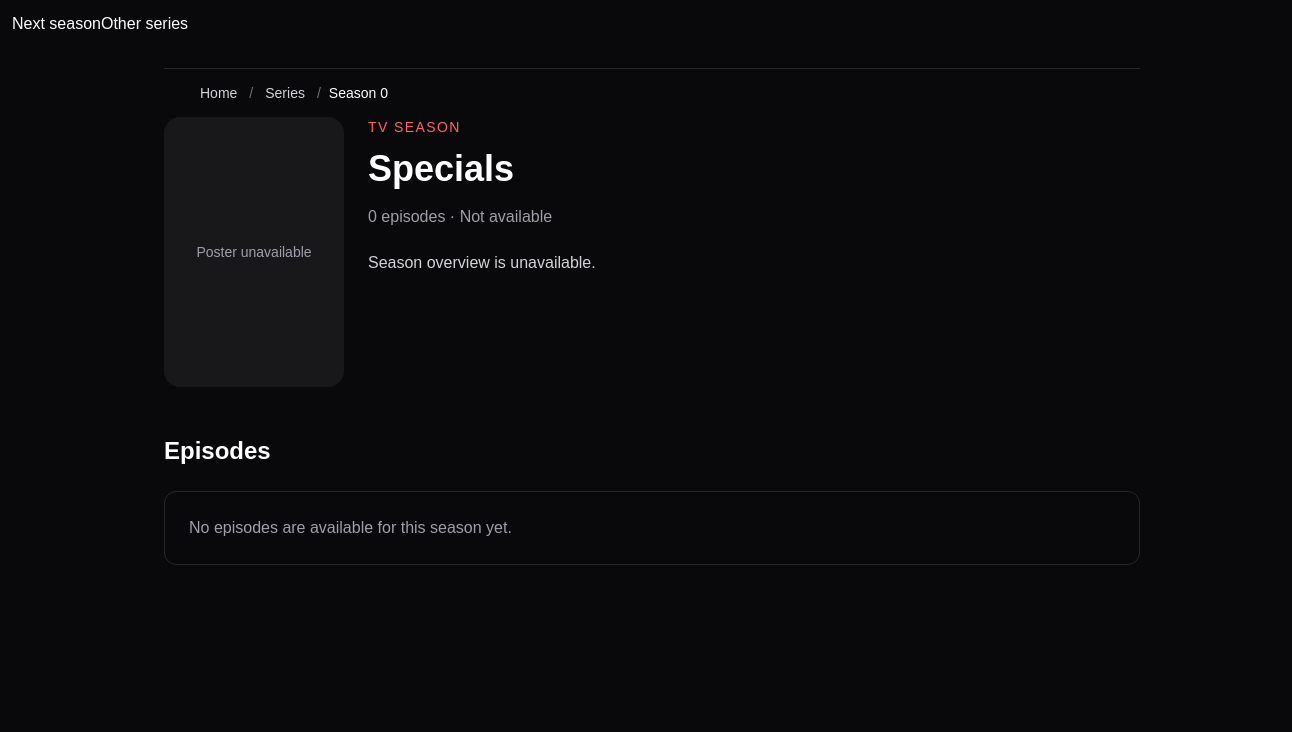
Test: TvSeasonPage › supports an empty Specials season and returns to the series
Expected: the heading "Specials" is shown, left=368, top=148, right=514, bottom=189
Expected: the text "No episodes are available for this season yet." is shown, left=164, top=491, right=1140, bottom=565
Step 1. Click the link with aria-label "Back to series" → (285, 93), box left=265, top=85, right=305, bottom=101
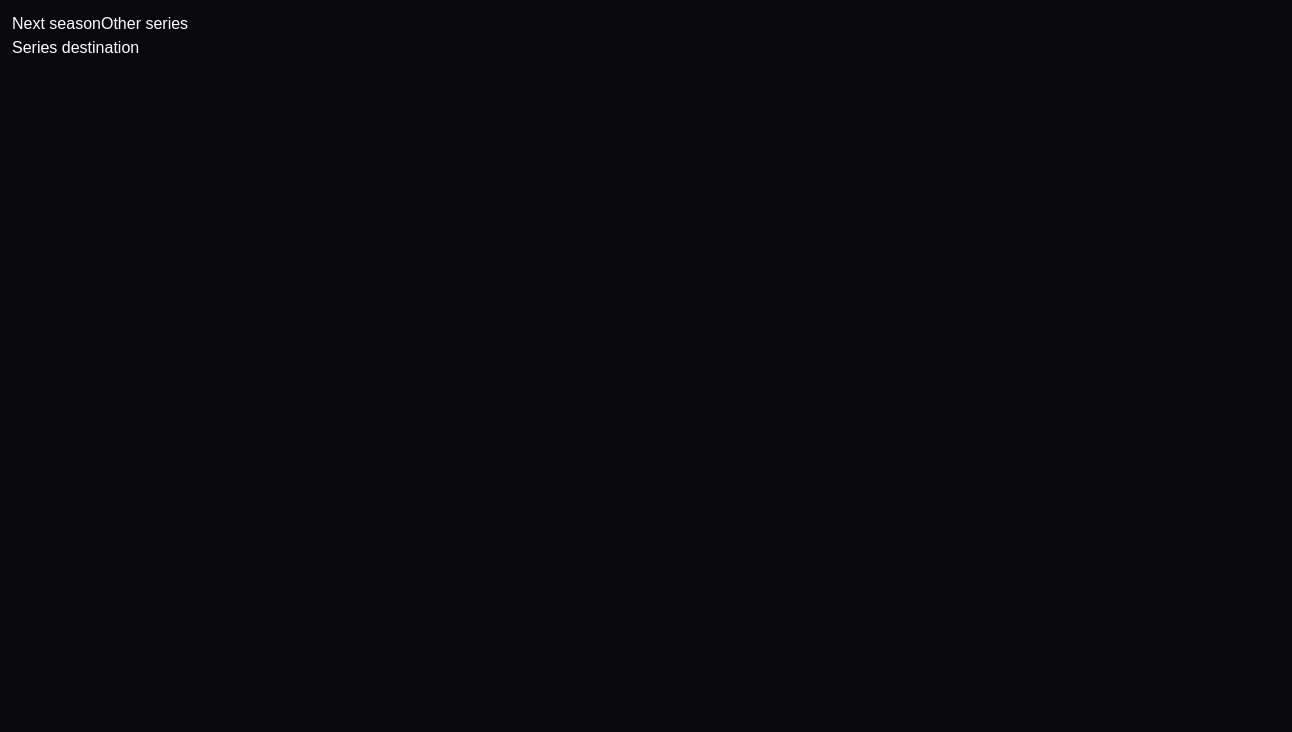
Expected: the heading "Series destination" is shown, left=12, top=39, right=139, bottom=56
